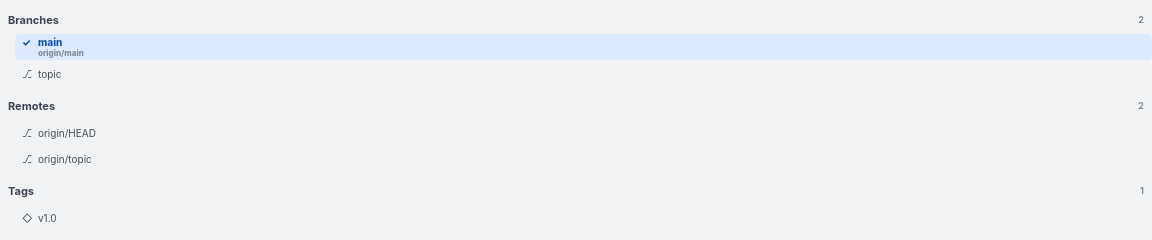
Test case: RepositoryRefTree › marks the current branch and closes its disabled menu with Escape
The image size is (1152, 240).
Right-click the element named "Current branch main" at (53, 47), box [22,36,84,58]
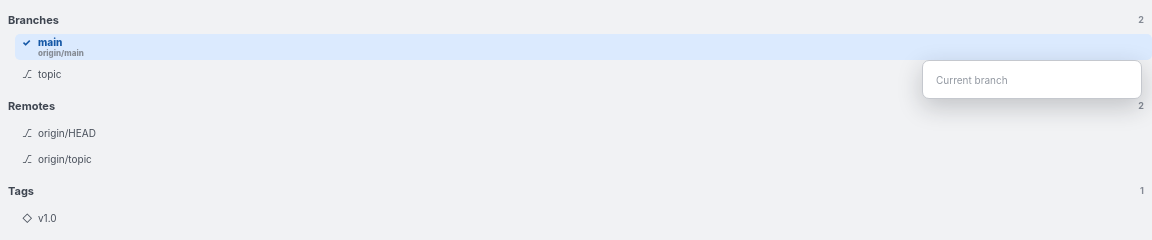
Expected: the menu item "Current branch" is disabled, [927,65,1137,94]
Press Escape
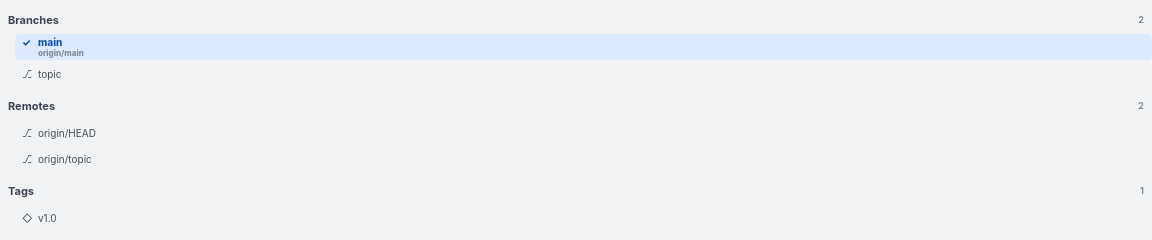
Expected: the menu is gone
